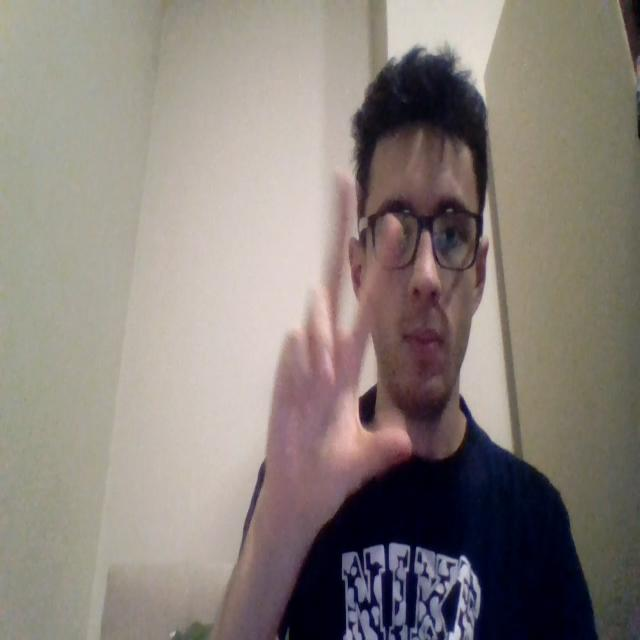no: (259, 169, 413, 515)
